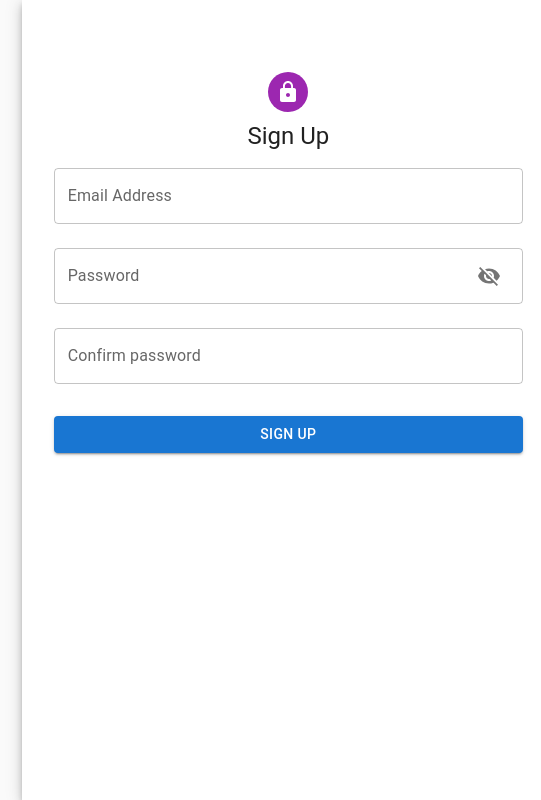
Test case: Sing Up screen › should submit signup form
Step 1. Type "test@test.com" into the field labelled "Email Address" → (288, 196), box [54,168,523,224]
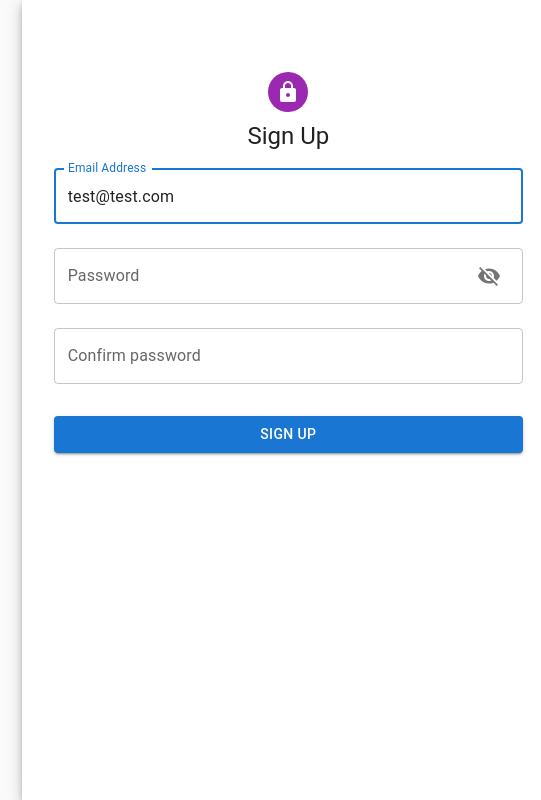
Step 2. Type "A1#" into the password field labelled "Password" → (257, 276), box [54,248,461,304]
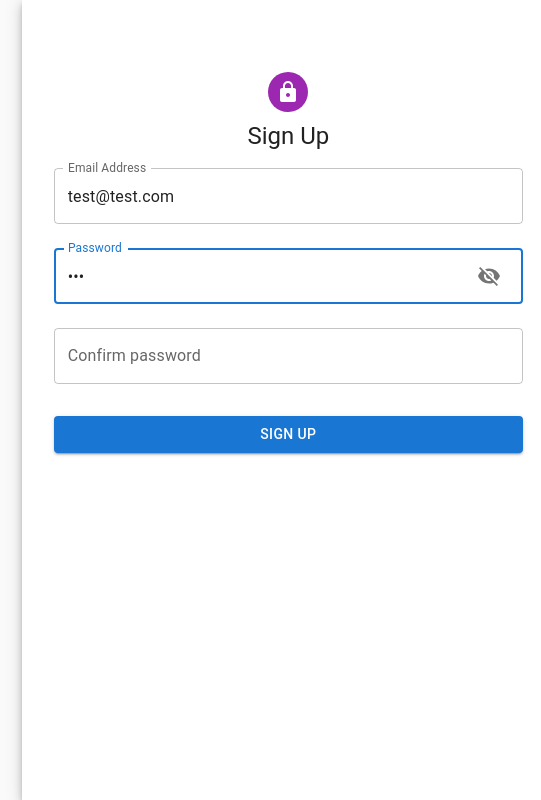
Step 3. Type "A1#" into the password field labelled "Confirm password" → (288, 356), box [54,328,523,384]
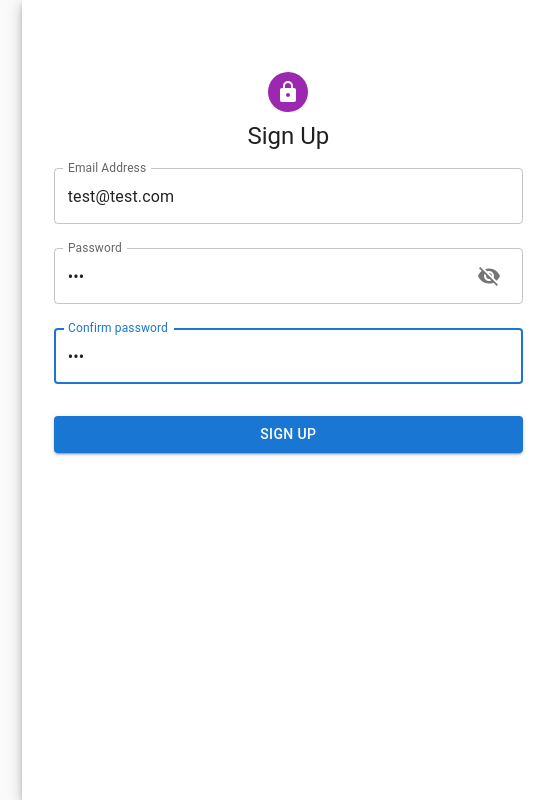
Step 4. Click the button "Sign Up" → (288, 434), box [54,416,523,452]
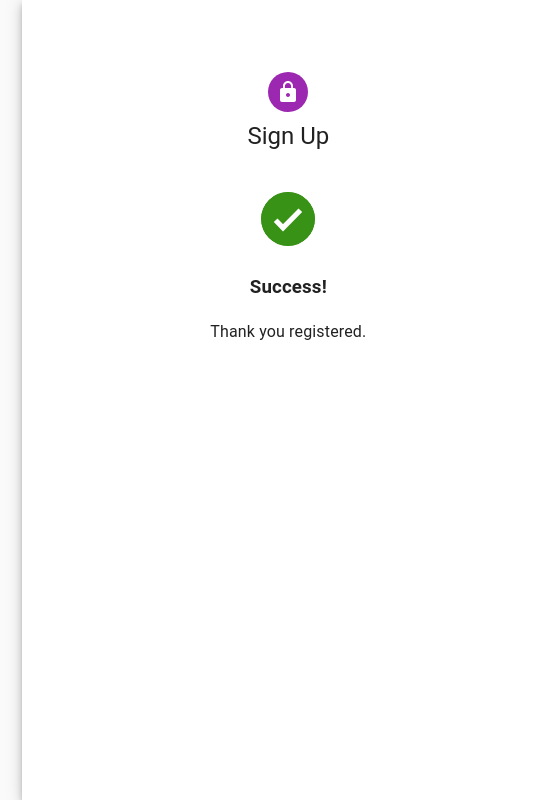
expect the heading "Success!" is shown: met, box [250,276,327,298]
